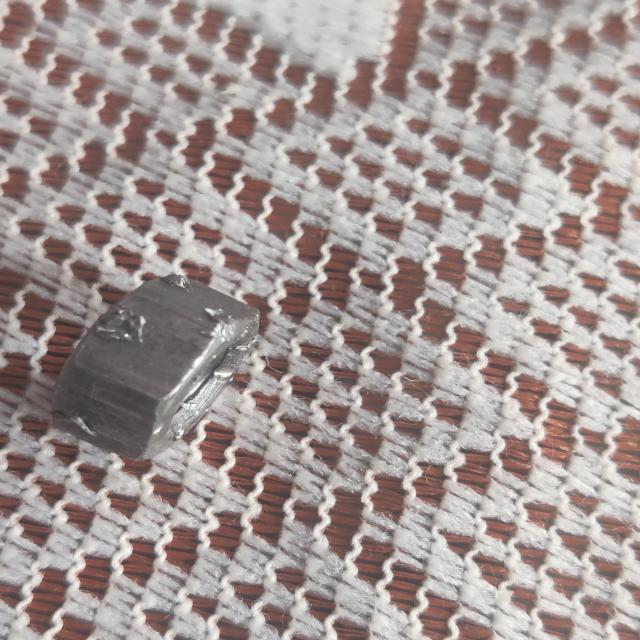infected nut: (53, 275, 260, 460)
